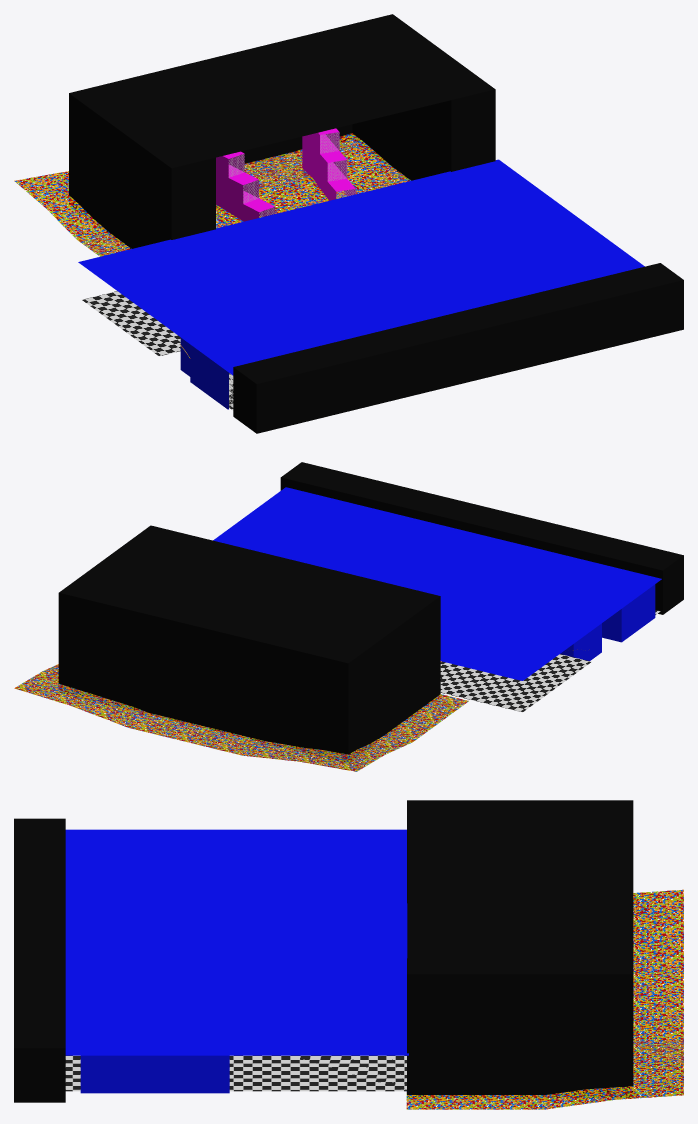
File: Level3_BlockOut.fbx
3 views of the same model, one above another, from view 1: azimuth 30°, elevation 25°; view 2: azimuth 150°, elevation 25°; view 3: azimuth 270°, elevation 25° (orthographic). The views are drawn at different scales.
Parts seen in each view (by area): view 1: Roof, Void3, Void, GiantBallPit, Floor_Principale, BlockObstacles.005, BlockObstacles.006, Wall; view 2: Void3, Roof, Void, GiantBallPit, Floor_Principale, Wall; view 3: Roof, Void3, Void, GiantBallPit, Floor_Principale, Wall.
Boxes of the visible parts, x1,y1,x2,y2 form: Roof: [78, 159, 644, 375]; Void3: [69, 14, 495, 248]; Void: [233, 263, 683, 433]; GiantBallPit: [14, 133, 410, 256]; Floor_Principale: [82, 291, 233, 410]; BlockObstacles.005: [216, 151, 275, 221]; BlockObstacles.006: [302, 128, 355, 200]; Wall: [180, 337, 233, 409]; Void3: [58, 525, 440, 762]; Roof: [213, 487, 661, 680]; Void: [280, 462, 683, 614]; GiantBallPit: [14, 664, 468, 771]; Floor_Principale: [440, 610, 660, 712]; Wall: [560, 584, 655, 660]; Roof: [65, 829, 408, 1055]; Void3: [407, 800, 633, 1097]; Void: [14, 818, 65, 1102]; GiantBallPit: [406, 889, 683, 1109]; Floor_Principale: [65, 1055, 406, 1091]; Wall: [80, 1055, 229, 1093].
Bounding box in the file's own units: 130 × 35.32 × 154.
